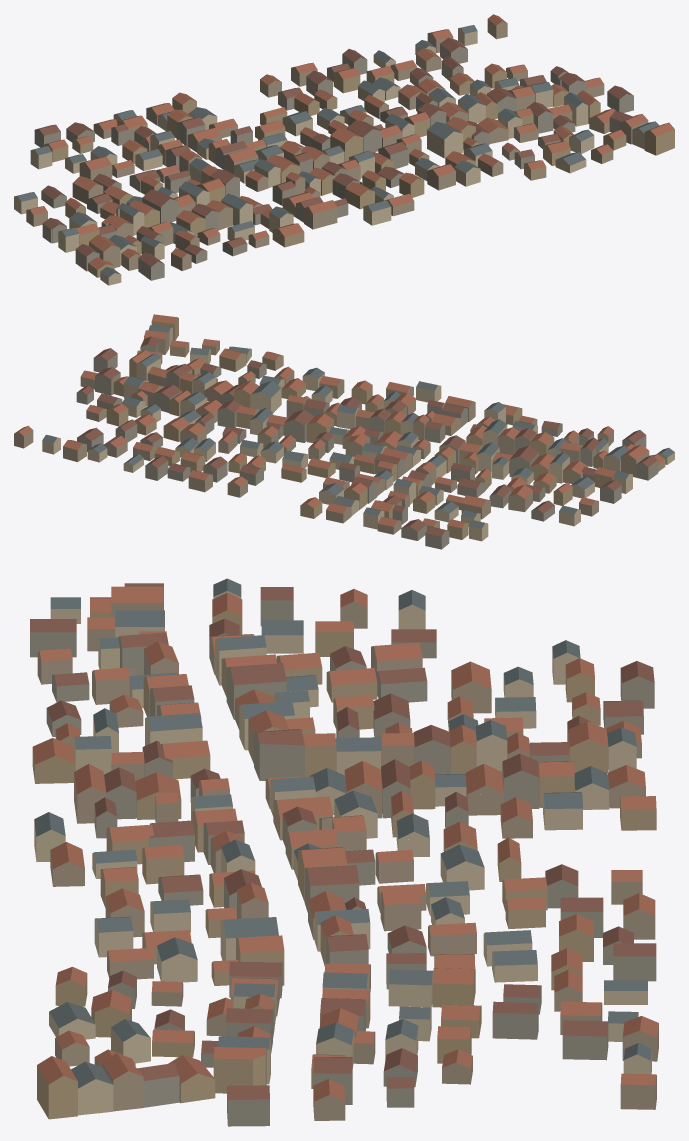
3 renders of one model, top to bottom at view 1: azimuth 30°, elevation 25°; view 2: azimuth 150°, elevation 25°; view 3: azimuth 270°, elevation 25°, orthographic. The views are drawn at different scales.
Visible parts, largest first — view 1: C_-3_0; view 2: C_-3_0; view 3: C_-3_0.
Part boxes in pixels (x1,y1,x2,y2): C_-3_0: [14, 14, 674, 285]; C_-3_0: [14, 314, 674, 549]; C_-3_0: [30, 578, 658, 1126].
Size of the model in its own units: 364 by 14.56 by 187.
